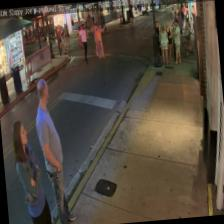person: (31, 76, 78, 224), (11, 117, 52, 224)
